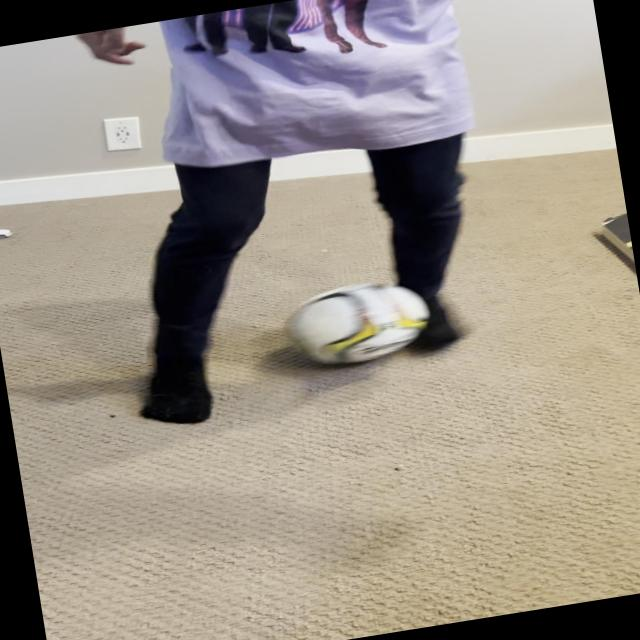Soccer Ball: (286, 272, 435, 373)
